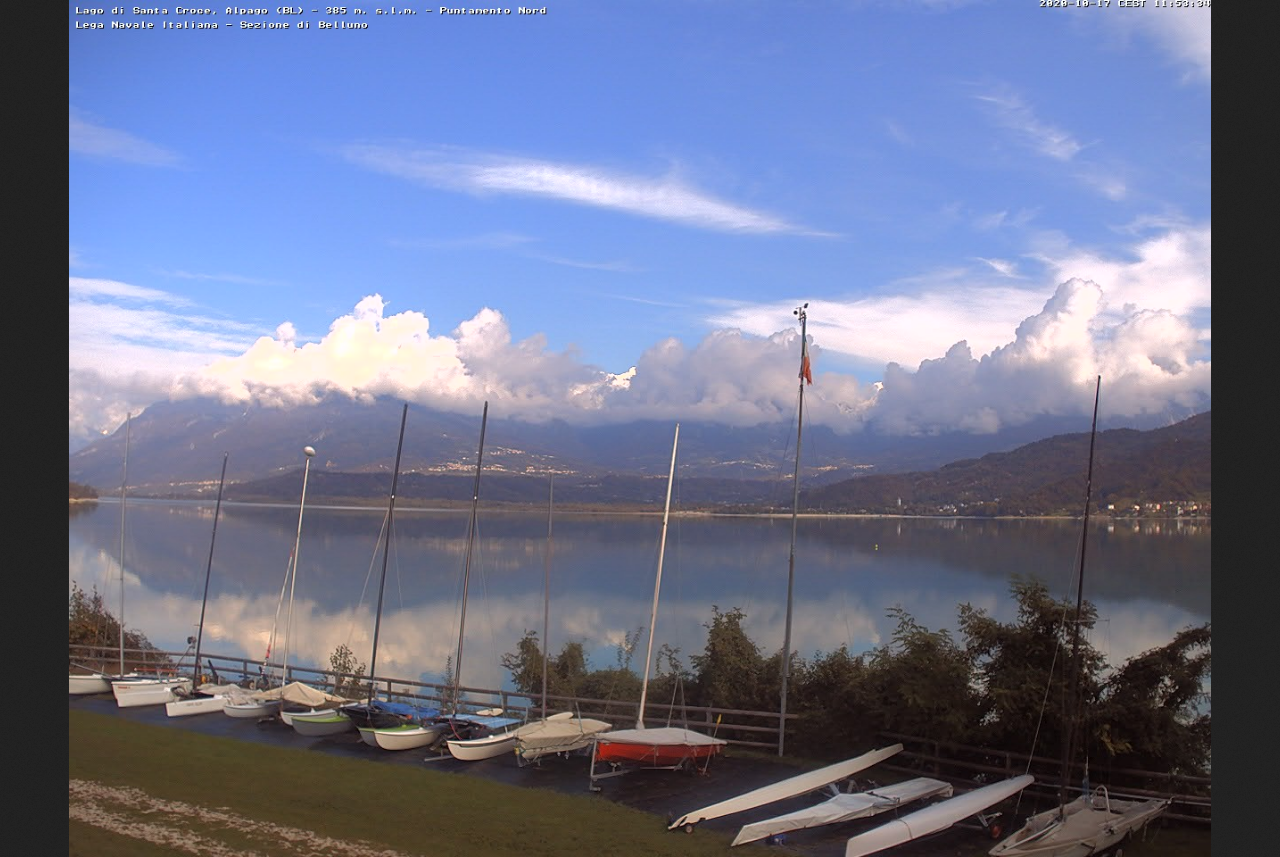no: (799, 322, 812, 385)
